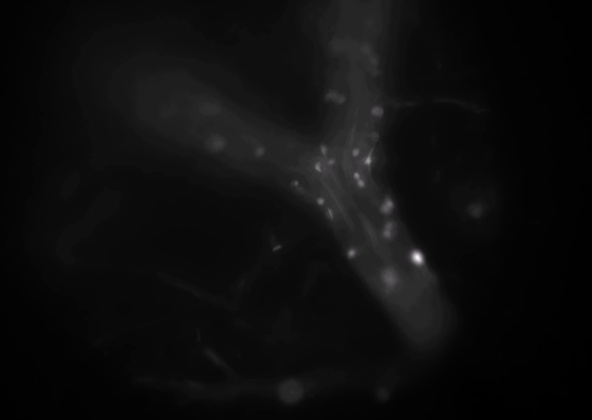cell: (412, 251, 426, 265), (370, 104, 384, 118), (348, 147, 362, 161), (362, 154, 376, 168), (317, 142, 331, 156), (310, 160, 324, 174), (325, 154, 339, 168), (322, 89, 336, 103), (350, 169, 364, 183), (333, 93, 347, 107), (355, 178, 369, 192), (343, 247, 357, 261), (382, 271, 396, 285), (380, 228, 394, 242), (382, 197, 396, 211), (383, 220, 397, 234), (377, 203, 391, 217), (313, 196, 327, 210), (287, 176, 301, 190), (251, 144, 265, 158), (208, 136, 222, 150), (358, 43, 372, 57), (367, 54, 381, 68), (331, 40, 345, 54), (368, 129, 382, 143)
